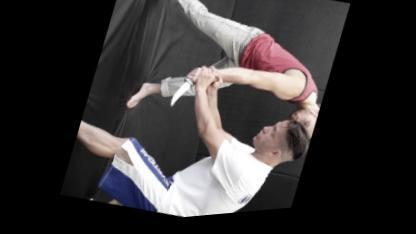knife: (168, 62, 204, 116)
